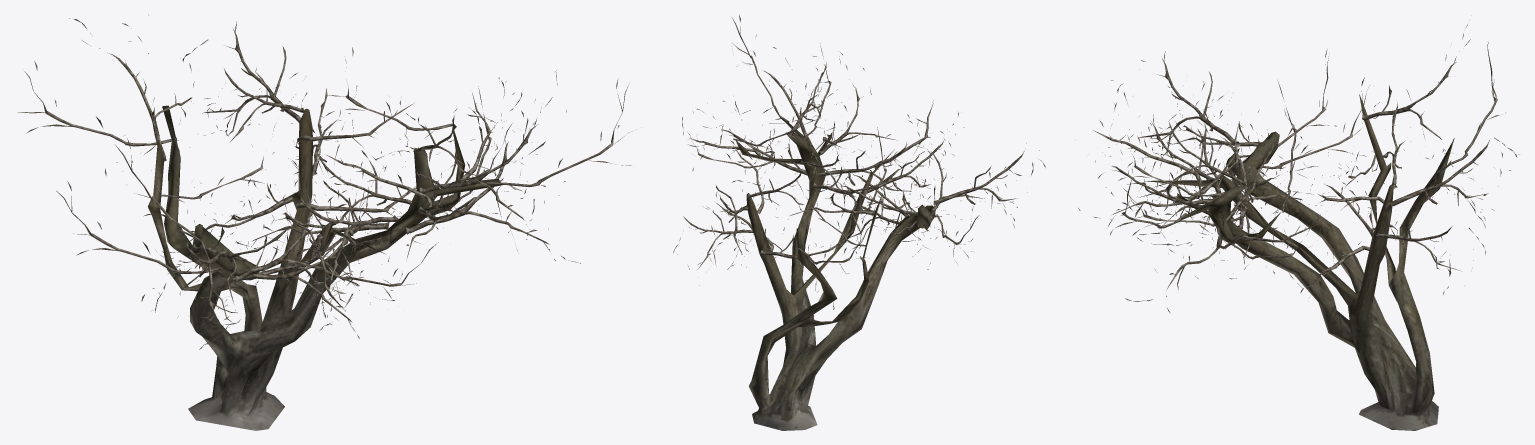
File: island.glb
3 renders of one model, left to right at view 1: azimuth 30°, elevation 25°; view 2: azimuth 150°, elevation 25°; view 3: azimuth 270°, elevation 25°, orthographic. The views are drawn at different scales.
Visible parts, largest first — view 1: lod0; view 2: lod0; view 3: lod0.
Part boxes in pixels (x1=…): lod0: x1=18, y1=14, x2=636, y2=430; lod0: x1=673, y1=14, x2=1045, y2=430; lod0: x1=1078, y1=24, x2=1519, y2=430.
Size of what is drawn, in the model's own units: 4.05 by 3.35 by 3.85.
Materials: 2 (2 with a texture image).
